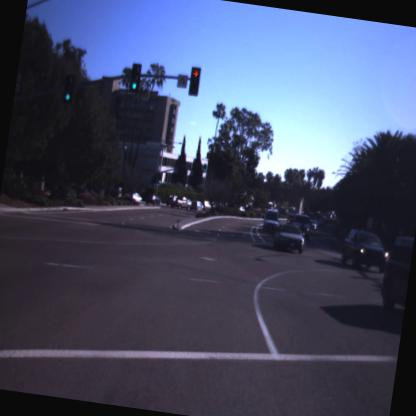trafficlight: (61, 70, 76, 104), (187, 64, 202, 96), (128, 60, 142, 90)
